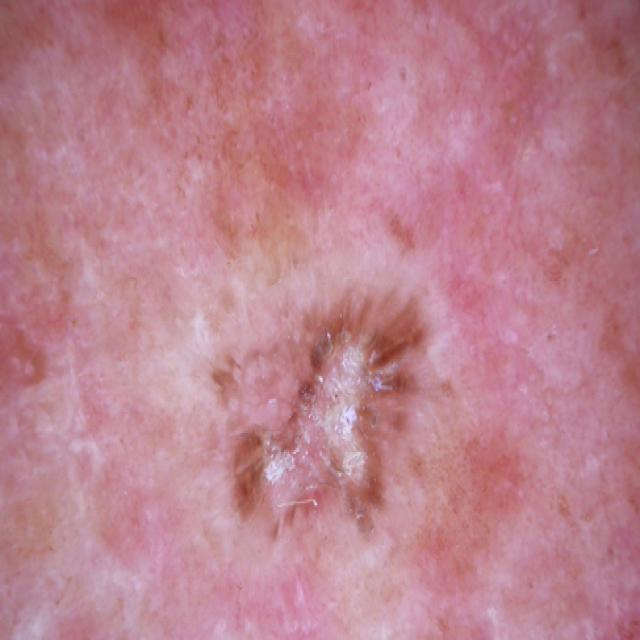Keratosis: (157, 198, 462, 566)
